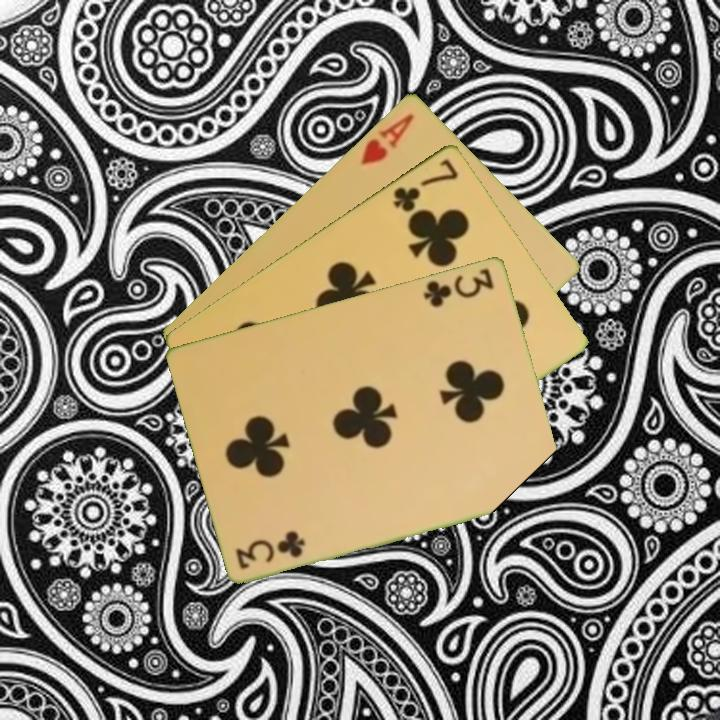3c: (420, 264, 498, 310), (232, 529, 308, 572)
7c: (389, 154, 461, 215)
Ah: (357, 109, 417, 168)
